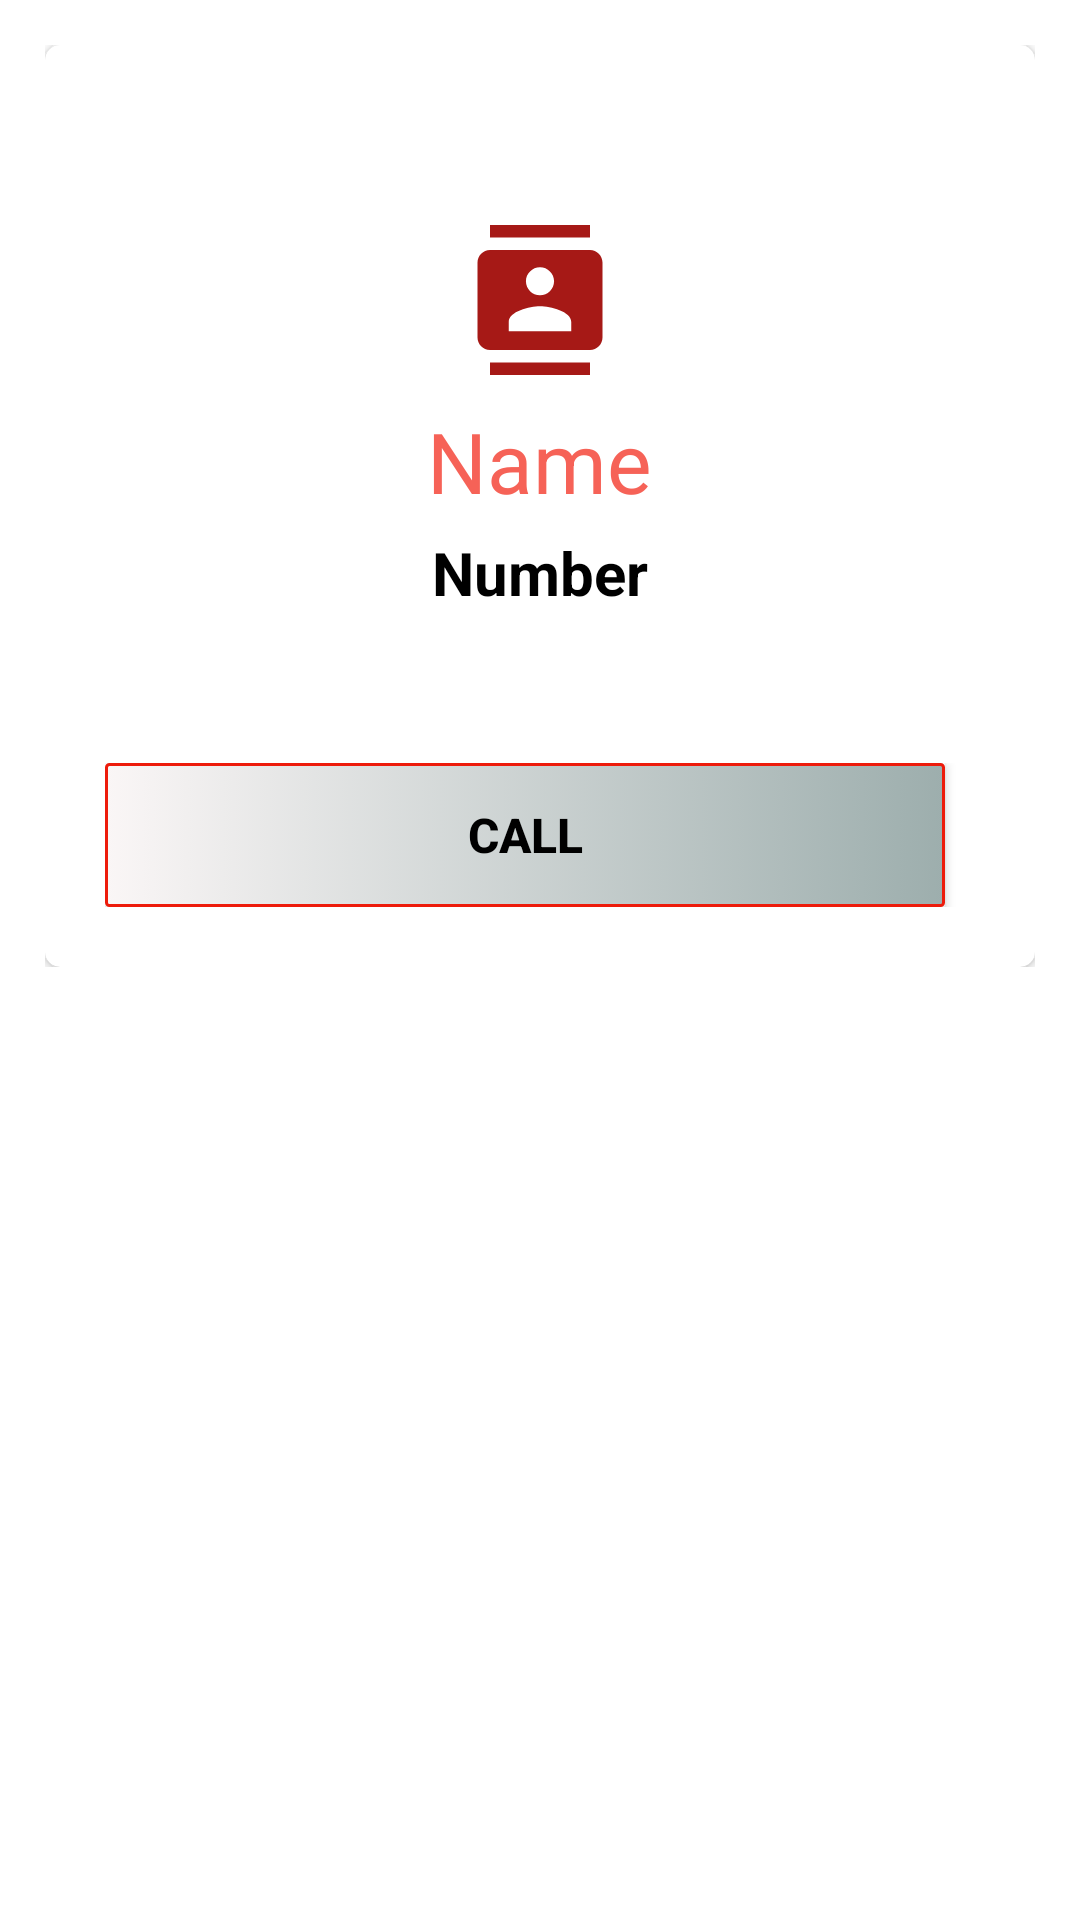

Named icons in this screenshot (1080 x 1920) and their centers, [x,y]:
contacts: [540,300]
